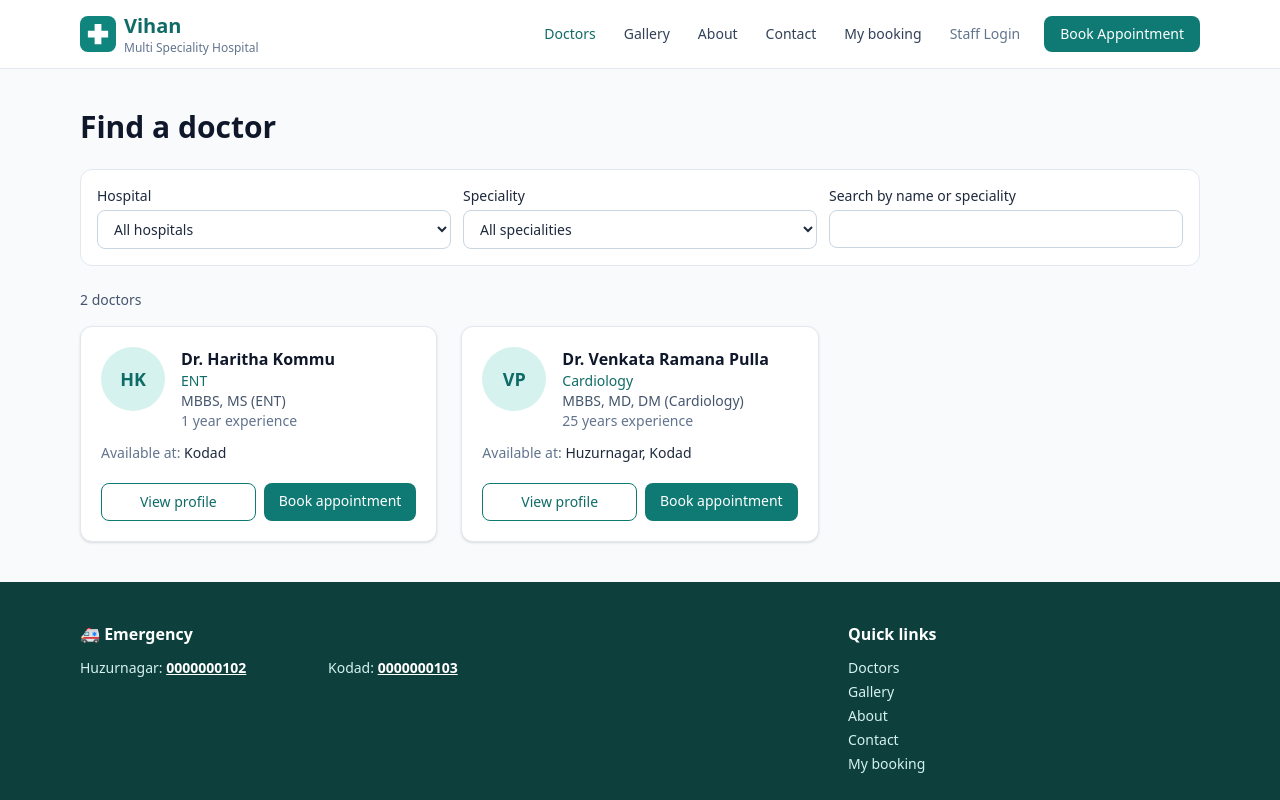
Test: DoctorsPage › searches after the user stops typing
Expected: the text "2 doctors" is shown, left=80, top=290, right=142, bottom=310
Type "haritha" into the search field labelled "Search by name or speciality" at (1006, 229), box left=829, top=210, right=1183, bottom=248
Wait 400 ms
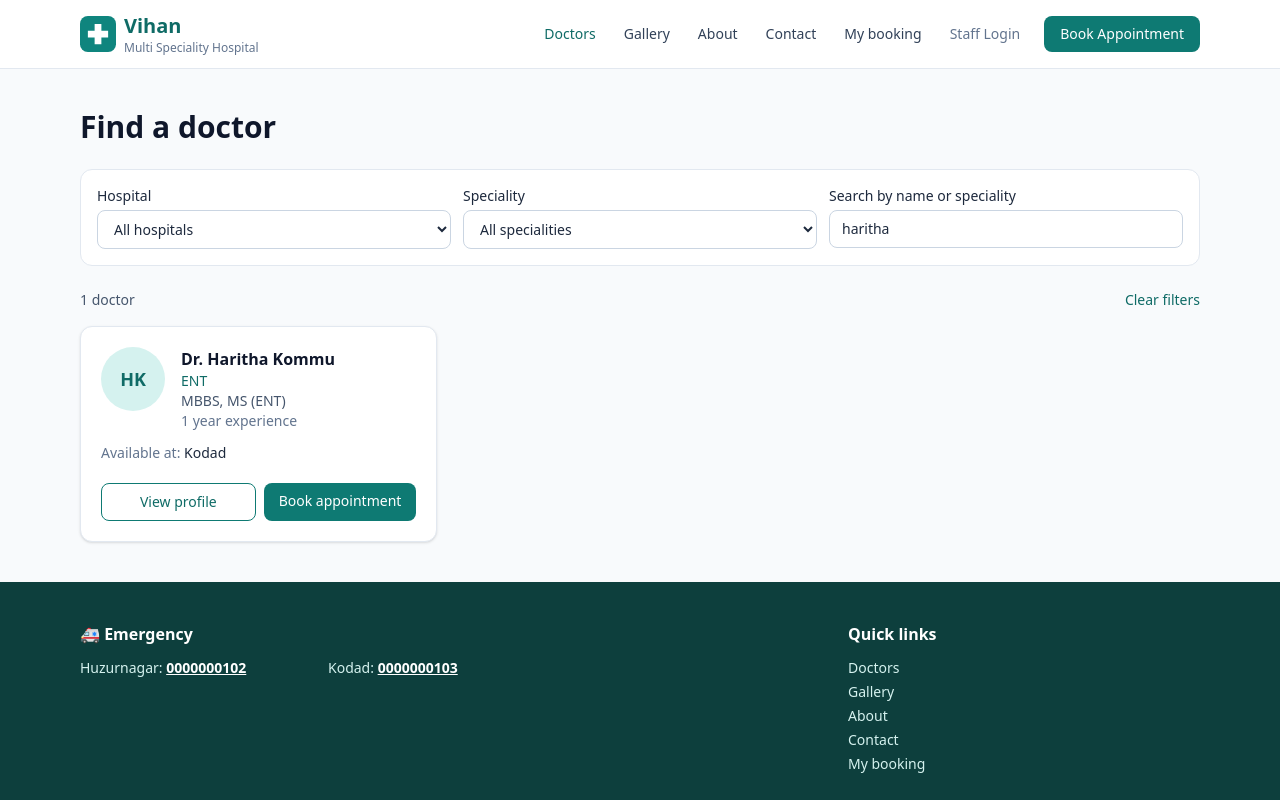
Result: the text "1 doctor" is shown at left=80, top=290, right=135, bottom=310
